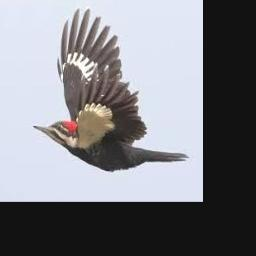Woodpecker: (32, 8, 189, 170)
